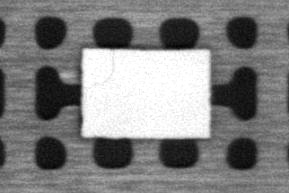DIE_CRACK: (87, 47, 115, 87)
